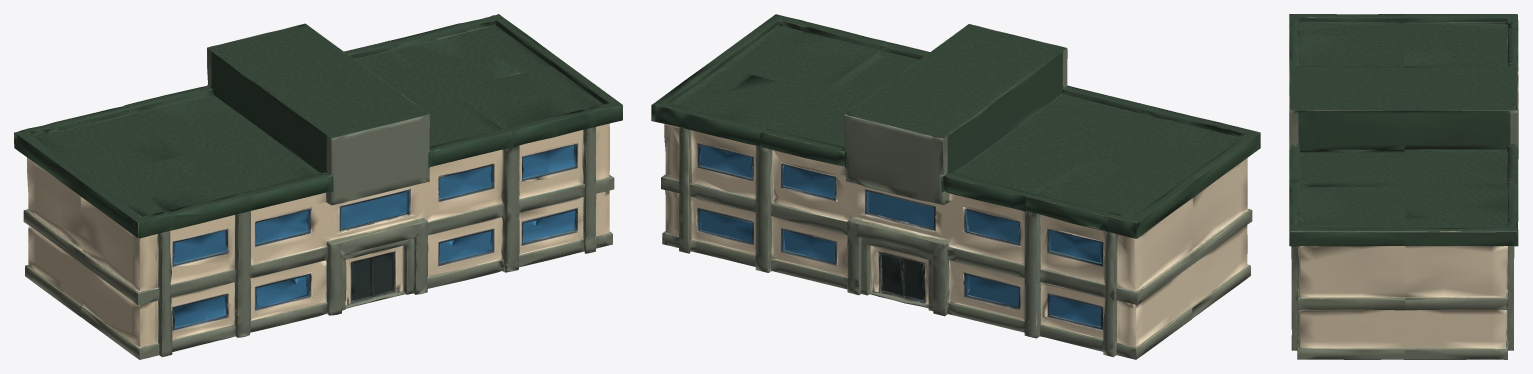
The model's file is building-6-office.glb.
3 views of the same model, side by side, from view 1: azimuth 30°, elevation 25°; view 2: azimuth 150°, elevation 25°; view 3: azimuth 270°, elevation 25° (orthographic). The views are drawn at different scales.
Bounding box in the file's own units: 0.9497 × 0.3359 × 0.4229.
Materials: 1 (1 with a texture image).
